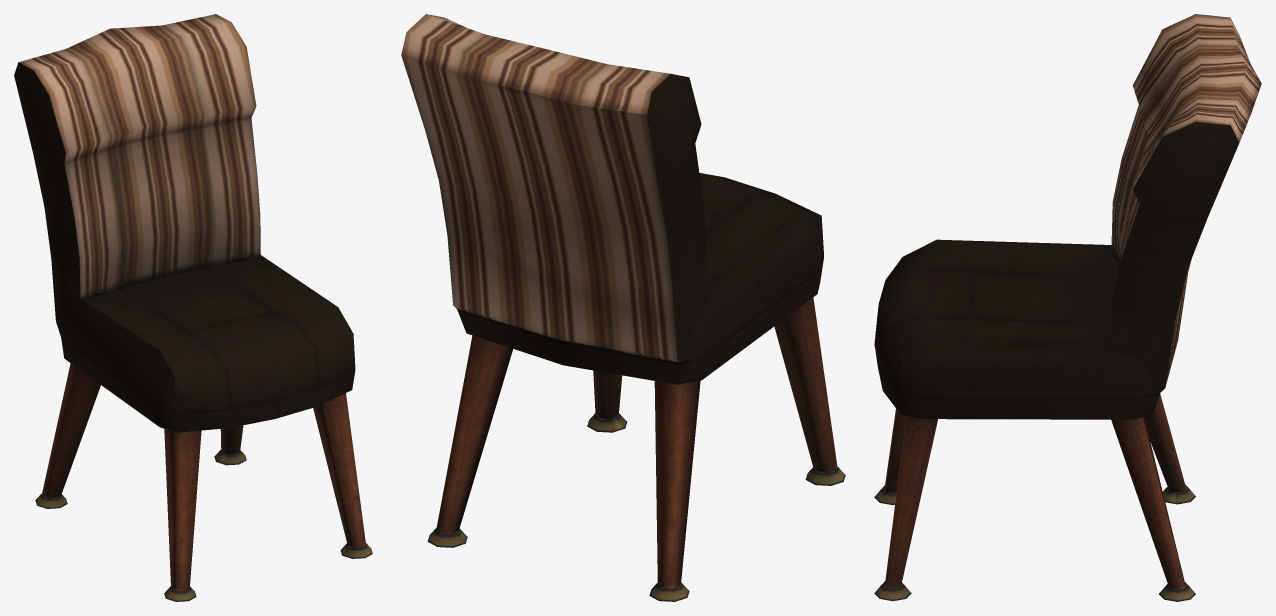
The model's file is dub_lounge_chair_03_lod1.glb.
3 views of the same model, side by side, from view 1: azimuth 30°, elevation 25°; view 2: azimuth 150°, elevation 25°; view 3: azimuth 270°, elevation 25° (orthographic). The views are drawn at different scales.
Parts seen in each view (by area): view 1: surf0; view 2: surf0; view 3: surf0.
Boxes of the visible parts, x1=… form: surf0: x1=14, y1=14, x2=372, y2=601; surf0: x1=401, y1=14, x2=845, y2=601; surf0: x1=874, y1=14, x2=1261, y2=601.
Bounding box in the file's own units: 23.74 × 46.02 × 33.79.
